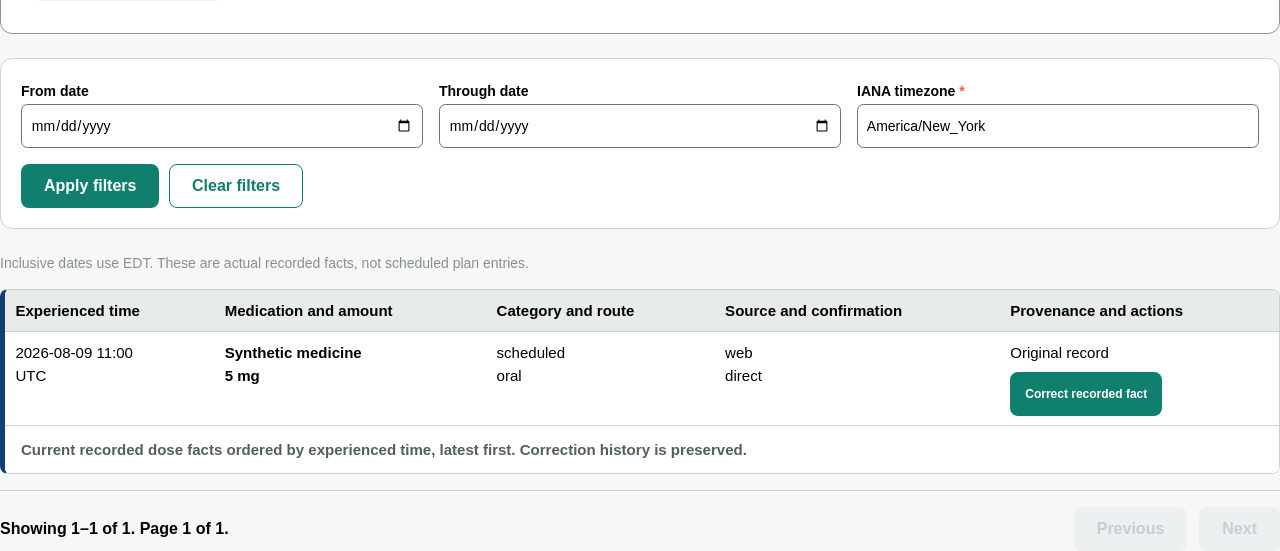
Test: Doses page › removes an erroneous dose only after a reason and explicit confirmation
(page scrolled)
Click the button "Correct recorded fact": (1086, 394) [1010,372,1162,416]
(page scrolled)
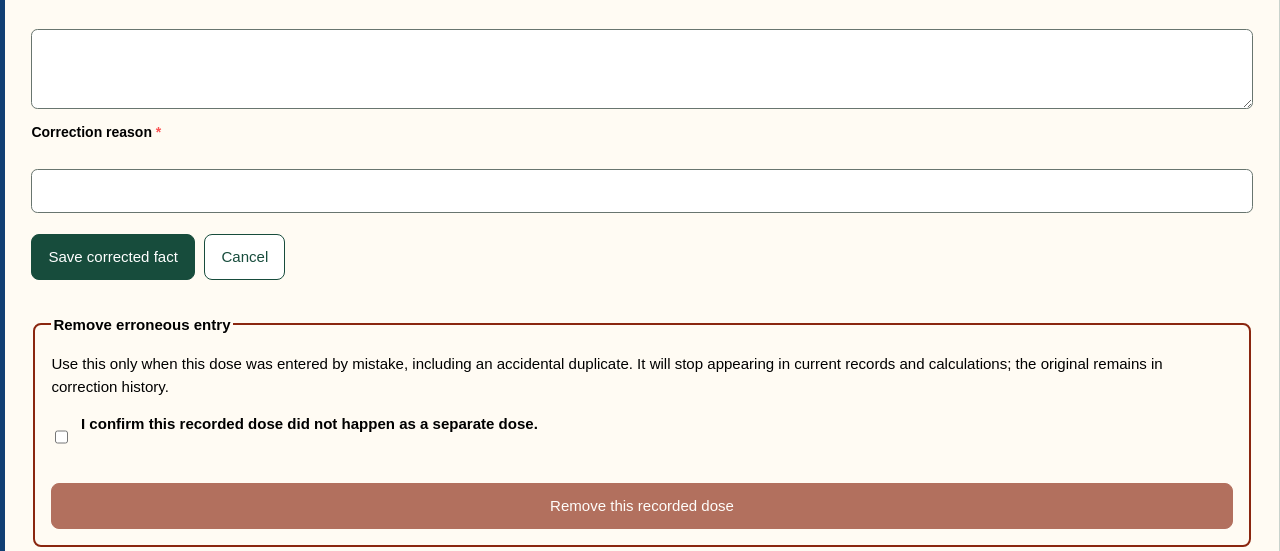
Expected: the button "Remove this recorded dose" is disabled, [51,482,1233,529]
In the field labelled "Correction reason": (642, 191) [31,169,1253,213], type "Accidental duplicate"
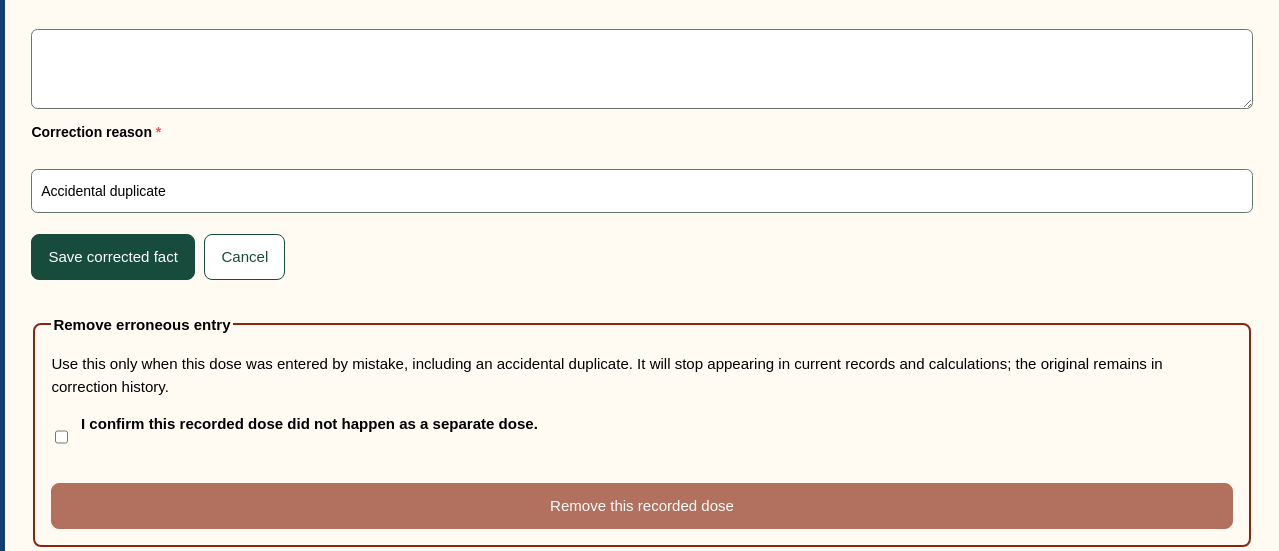
Click the checkbox labelled "I confirm this recorded dose did not happen": (62, 437) [55,415,68,459]
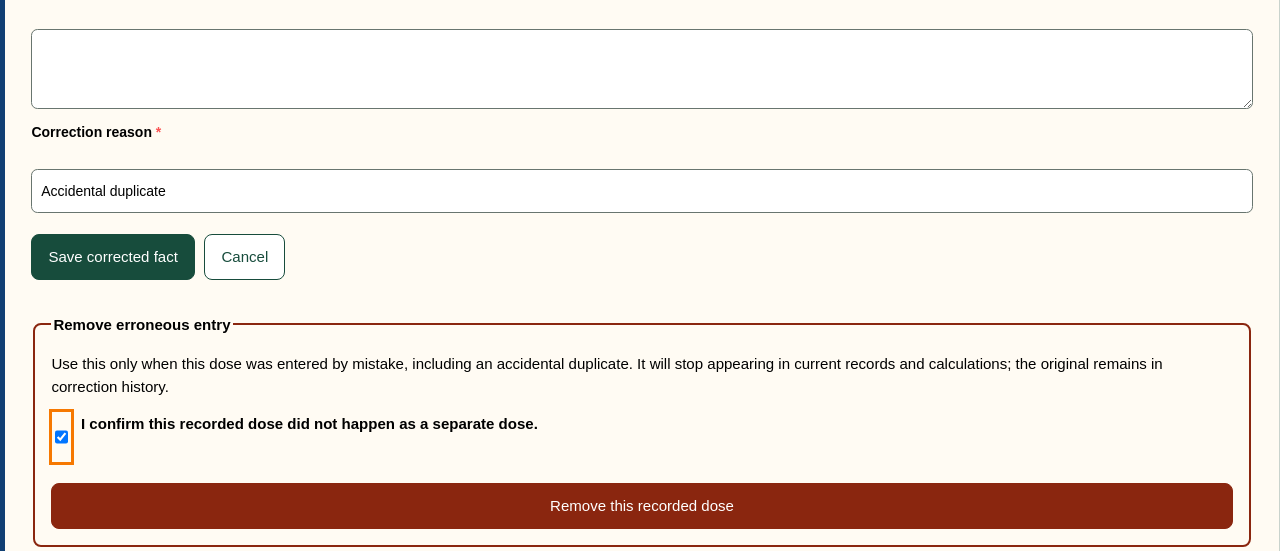
Expected: the button "Remove this recorded dose" is enabled
Click the button "Remove this recorded dose": (642, 506) [51,482,1233,529]
(page scrolled)
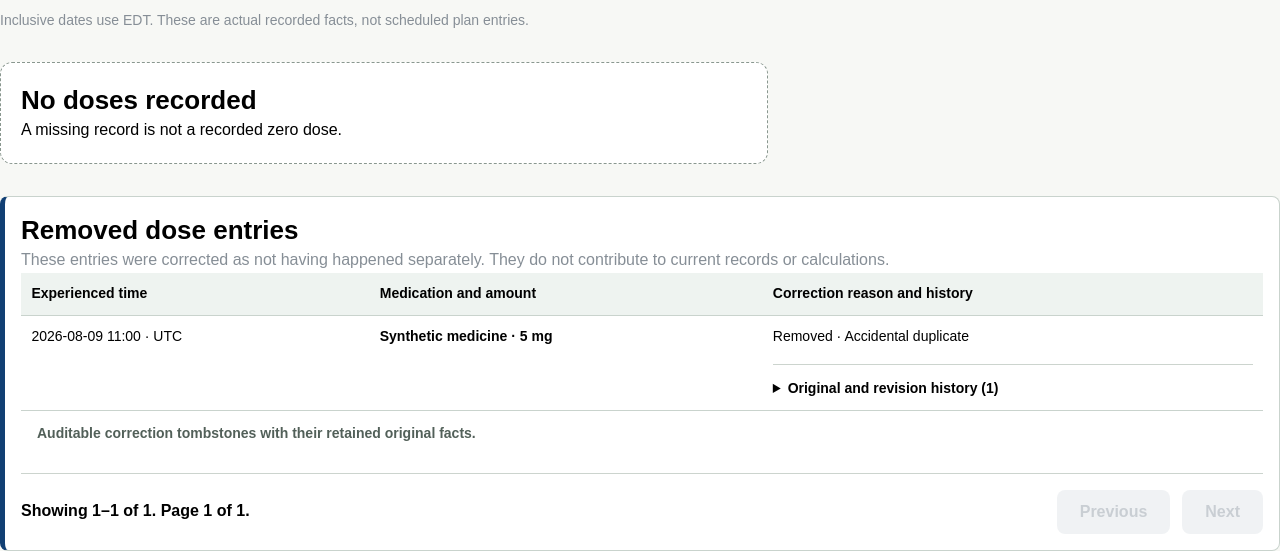
Expected: the heading "Removed dose entries" is shown, [21,215,298,245]
Expected: the text "Removed · Accidental duplicate" is shown, [773,328,969,344]
